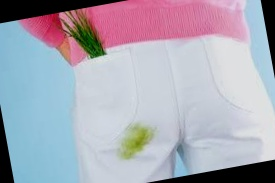earth: (120, 124, 157, 158)
